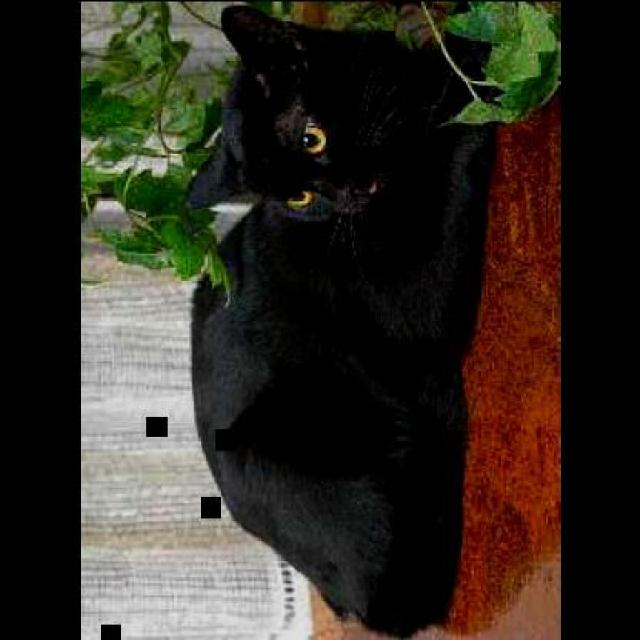unauthorized: (185, 1, 500, 638)
